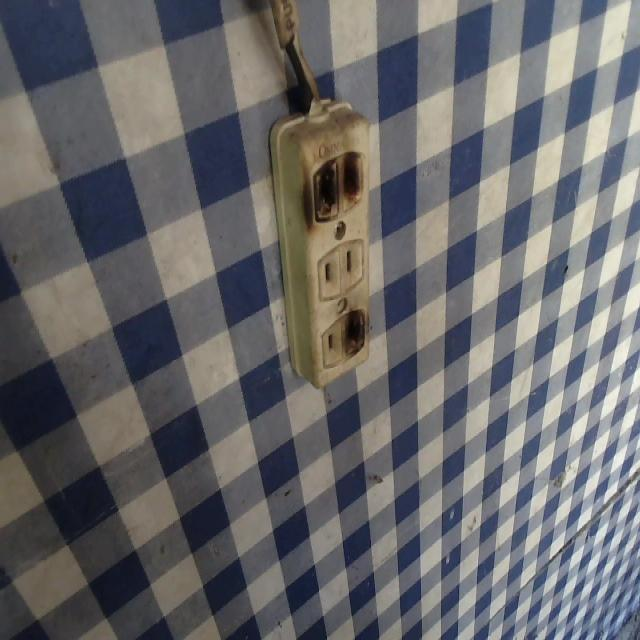-: (299, 149, 367, 223), (338, 303, 369, 360)
